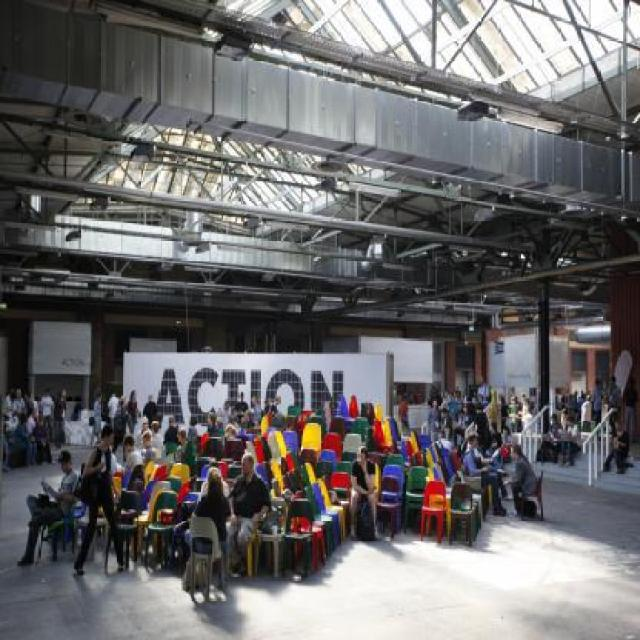Person: (16, 447, 78, 568), (76, 423, 124, 575), (220, 452, 272, 576), (172, 459, 230, 570), (186, 466, 232, 589), (462, 432, 507, 517), (467, 432, 511, 503), (348, 446, 380, 543), (503, 444, 539, 519), (602, 418, 630, 472), (30, 414, 55, 468), (14, 414, 37, 468), (539, 412, 563, 463), (558, 417, 580, 466), (112, 398, 130, 456), (115, 438, 143, 474), (35, 388, 54, 441), (52, 391, 68, 449), (605, 378, 621, 436), (472, 401, 488, 457), (622, 378, 636, 442), (162, 414, 180, 457), (149, 420, 165, 468), (141, 394, 159, 435), (426, 398, 442, 442), (451, 410, 469, 447), (91, 391, 103, 446), (230, 390, 248, 424), (397, 394, 411, 437), (125, 391, 138, 435), (579, 394, 593, 434), (139, 433, 155, 467), (173, 429, 189, 462), (593, 379, 602, 436), (438, 409, 454, 440), (0, 390, 12, 428), (107, 392, 119, 430), (248, 397, 262, 429), (488, 425, 502, 457), (477, 377, 491, 408), (216, 400, 232, 426), (10, 388, 24, 414), (520, 394, 529, 434), (204, 412, 218, 436), (2, 432, 10, 472), (187, 414, 198, 443), (508, 396, 517, 430), (448, 393, 460, 416), (23, 393, 34, 418), (268, 395, 282, 414), (30, 392, 38, 420), (262, 398, 272, 416), (225, 426, 237, 440), (576, 394, 584, 414), (414, 389, 423, 405), (602, 398, 608, 422), (217, 418, 225, 434), (232, 415, 240, 431), (93, 382, 99, 403), (408, 391, 415, 406), (572, 391, 576, 415), (462, 390, 468, 405), (439, 385, 443, 397)
